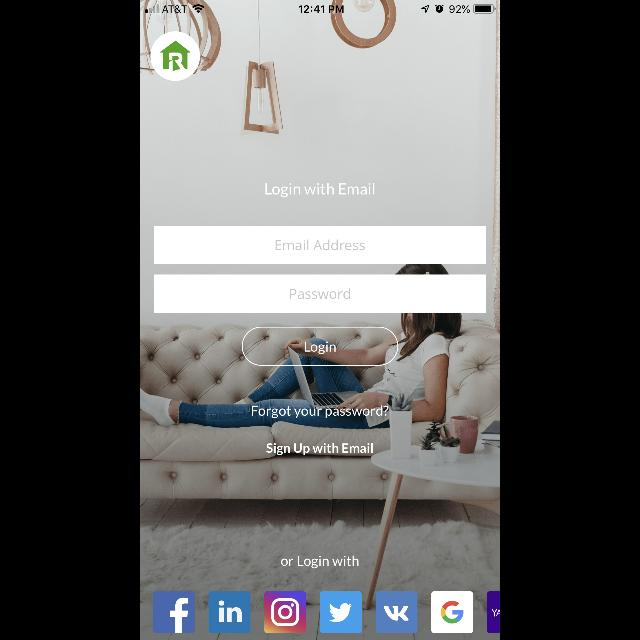backgroundimage: (140, 1, 500, 640)
icon: (153, 591, 195, 633), (320, 591, 362, 633), (431, 591, 473, 633)
image: (150, 32, 200, 82), (209, 591, 251, 633), (264, 591, 306, 633), (376, 591, 418, 633), (486, 591, 499, 633)
input: (154, 275, 486, 313), (154, 226, 486, 264)
text: (266, 182, 374, 198), (252, 406, 388, 418), (267, 443, 373, 455), (282, 556, 358, 568), (275, 240, 365, 250), (290, 288, 350, 300)
textbutton: (242, 326, 398, 366)
uppertaskbar: (140, 0, 500, 14)
